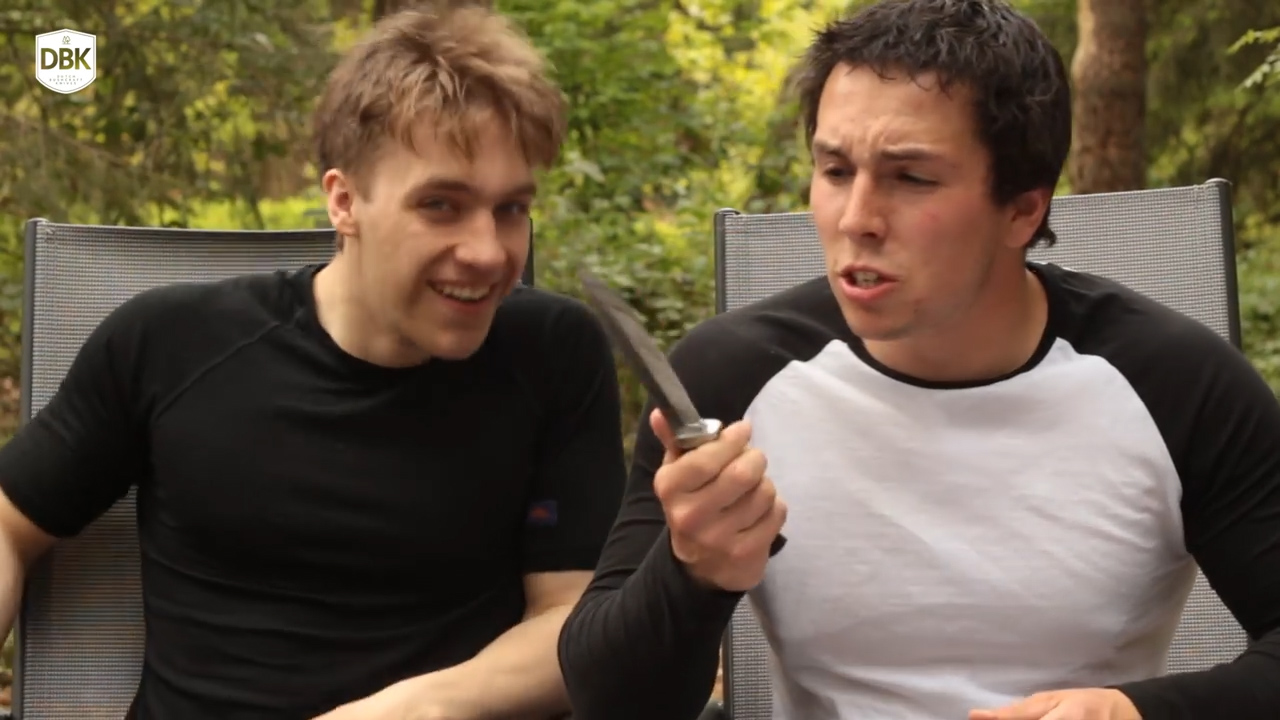knife: (564, 243, 787, 514)
